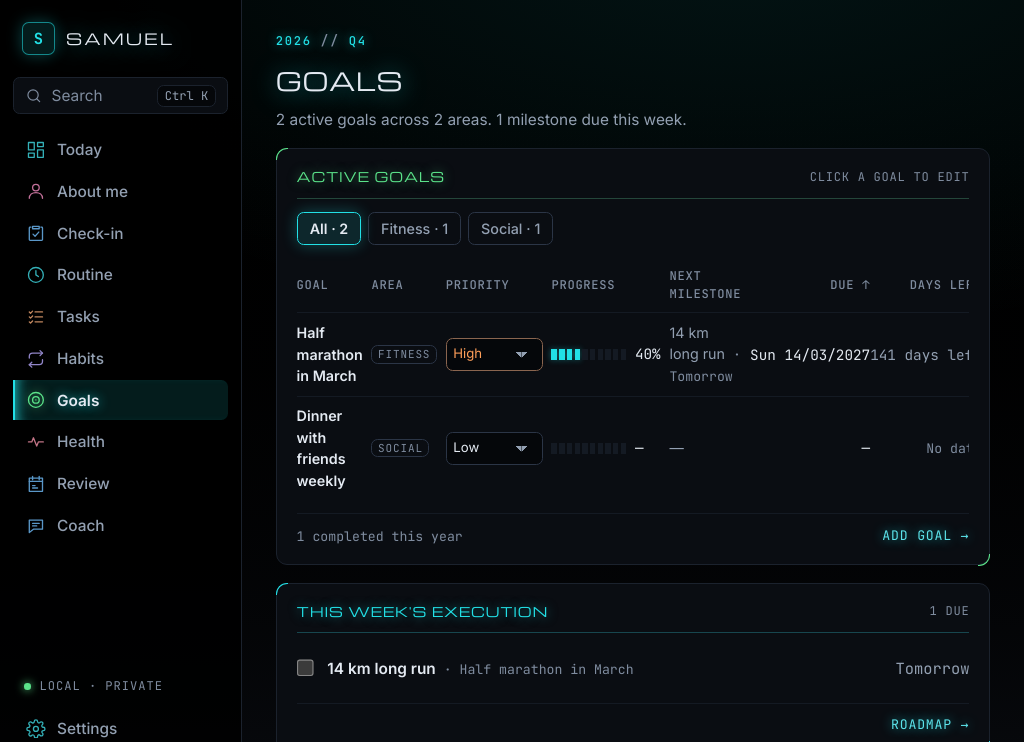
Scenario: App › lists goals, shows a dash for no progress, and ticks a milestone
This screenshot has width=1024, height=742.
Expected: the button "Half marathon in March" is shown, [297,322,363,386]
Expected: the text "2 active goals across 2 areas. 1 milestone due this week." is shown, [276,110,687,129]
Click the checkbox named "Mark 14 km long run done".
click(305, 668)  # box [297,659,314,677]
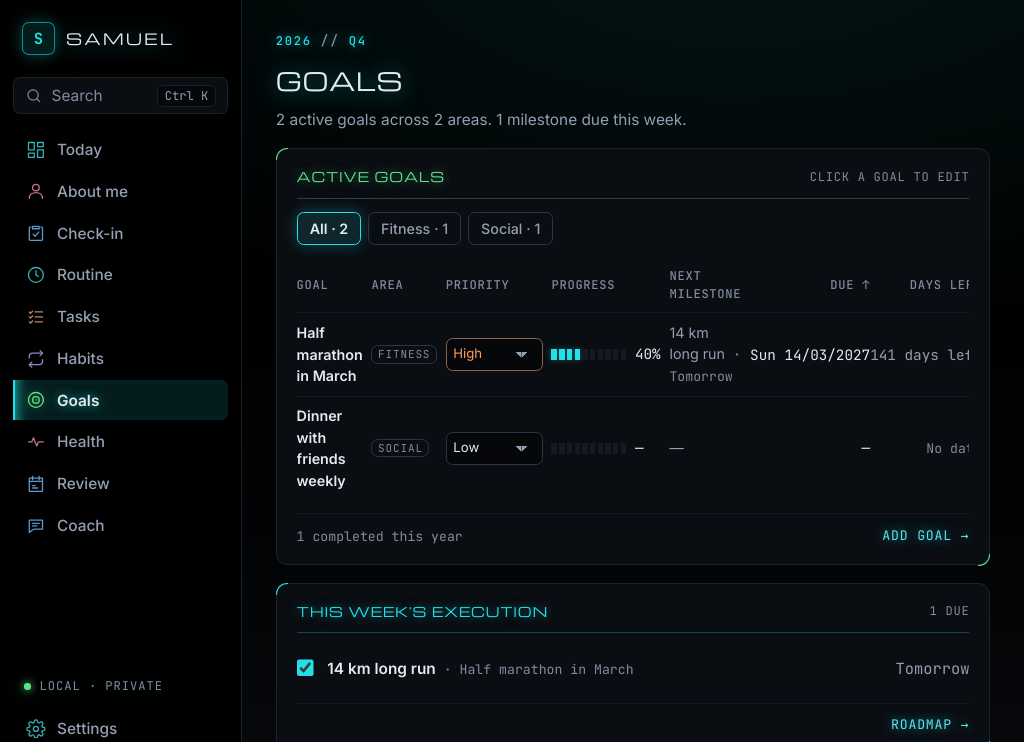
Click the button "Half marathon in March".
click(330, 354)  # box [297,322,363,386]
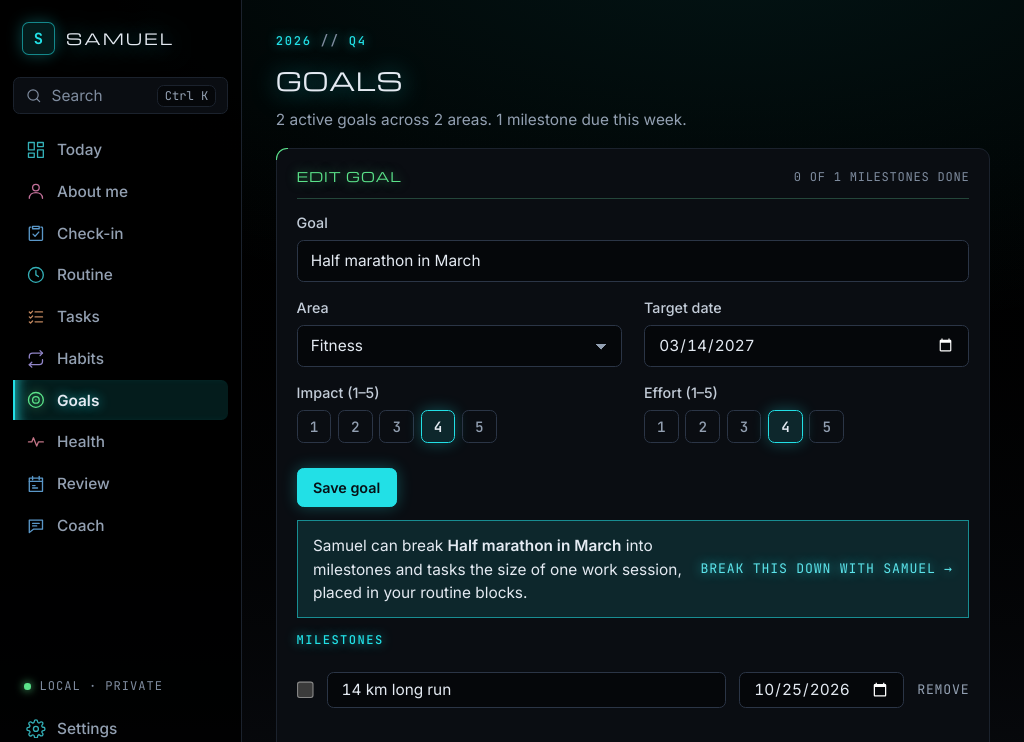
Result: the heading "Edit goal" is shown at [297,167,402,186]
Result: the field labelled "Goal" holds "Half marathon in March" at [297,240,969,282]
